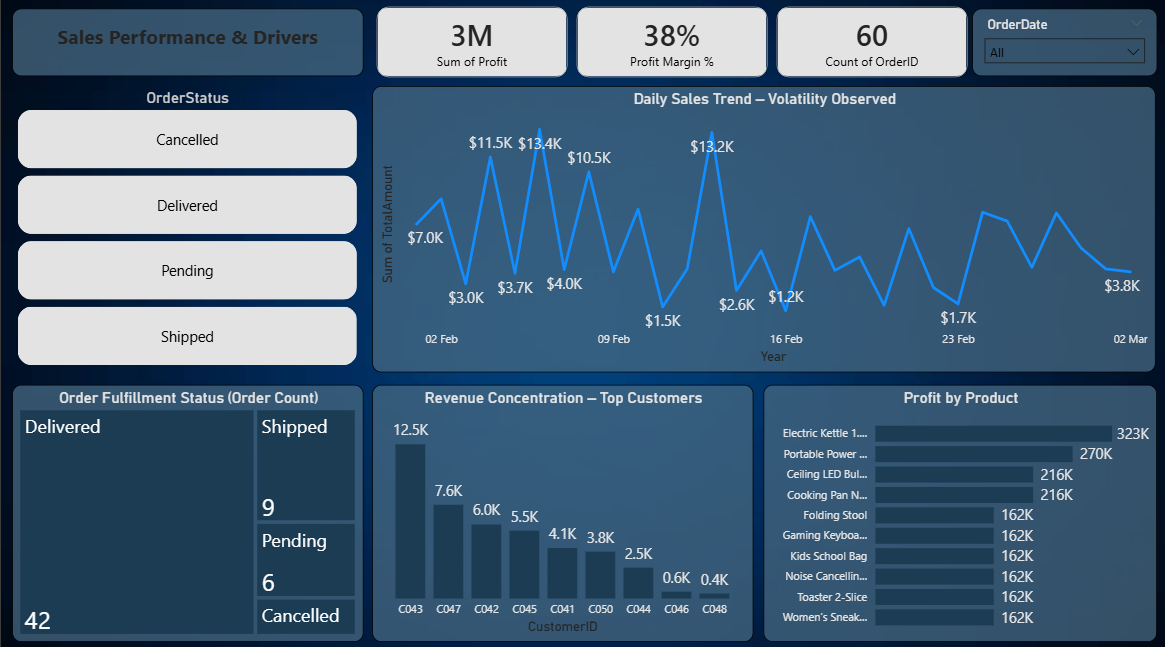

The dashboard page shown, as its layout file describes it:
{"tool":"powerbi","page":{"name":"Sales","canvas":[1280,720],"ordinal":1},"visuals":[{"type":"textbox","box":[12.3,13.7,385.6,74.1],"z":0},{"type":"lineChart","title":"Daily Sales Trend – Volatility Observed","fields":{"Category":["Order.OrderDate.Variation.Date Hierarchy.Year","Order.OrderDate.Variation.Date Hierarchy.Month","Order.OrderDate.Variation.Date Hierarchy.Day"],"Y":["Sum(Order.TotalAmount)"]},"box":[407.5,98.8,860.4,314.2],"z":1000},{"type":"columnChart","title":"Revenue Concentration – Top Customers","fields":{"Category":["Customer.CustomerID"],"Y":["Sum(Order.TotalAmount)"]},"box":[407.5,426.8,418.5,282.7],"z":2000},{"type":"barChart","title":"Profit by Product","fields":{"Category":["Product.ProductName"],"Y":["Sum(Order Items.Profit)"]},"box":[837.1,426.8,432.2,282.7],"z":3000},{"type":"advancedSlicerVisual","fields":{"Values":["Order.OrderStatus"]},"box":[13.7,98.8,385.6,314],"z":4000},{"type":"cardVisual","fields":{"Data":["Sum(Order Items.Profit)"]},"box":[407.5,6.9,219.6,87.8],"z":5000},{"type":"cardVisual","fields":{"Data":["Count(Order.OrderID)"]},"box":[846.7,6.9,219.6,87.8],"z":6000},{"type":"cardVisual","fields":{"Data":["Order Items.Profit Margin %"]},"box":[627.1,6.9,219.6,87.8],"z":7000},{"type":"treemap","title":"Order Fulfillment Status (Order Count)","fields":{"Group":["Order.OrderStatus"],"Values":["CountNonNull(Order.OrderID)"]},"box":[12.3,426.8,385.6,282.7],"z":9000},{"type":"slicer","fields":{"Values":["Order.OrderDate"]},"box":[1066.2,13.7,203.1,74.1],"z":10000}]}

Visuals, with their boxes in screenshot pixels (x1, y1, x2, y2), scaled from the page's 1280x720 canvas onto the 1165x647 screenshot:
textbox: (x1=11, y1=12, x2=362, y2=79)
"Daily Sales Trend – Volatility Observed" lineChart: (x1=371, y1=89, x2=1154, y2=371)
"Revenue Concentration – Top Customers" columnChart: (x1=371, y1=384, x2=752, y2=638)
"Profit by Product" barChart: (x1=762, y1=384, x2=1155, y2=638)
advancedSlicerVisual - Order.OrderStatus: (x1=12, y1=89, x2=363, y2=371)
cardVisual - Sum(Order Items.Profit): (x1=371, y1=6, x2=571, y2=85)
cardVisual - Count(Order.OrderID): (x1=771, y1=6, x2=970, y2=85)
cardVisual - Order Items.Profit Margin %: (x1=571, y1=6, x2=771, y2=85)
"Order Fulfillment Status (Order Count)" treemap: (x1=11, y1=384, x2=362, y2=638)
slicer - Order.OrderDate: (x1=970, y1=12, x2=1155, y2=79)
